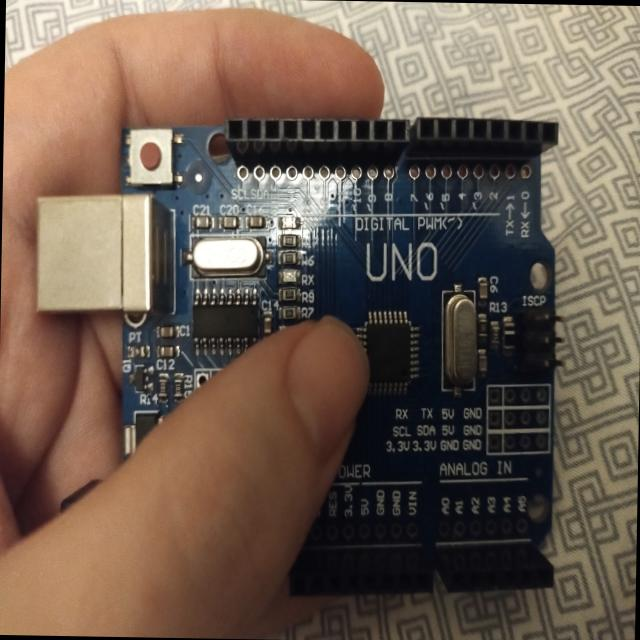arduino: (22, 113, 574, 608)
